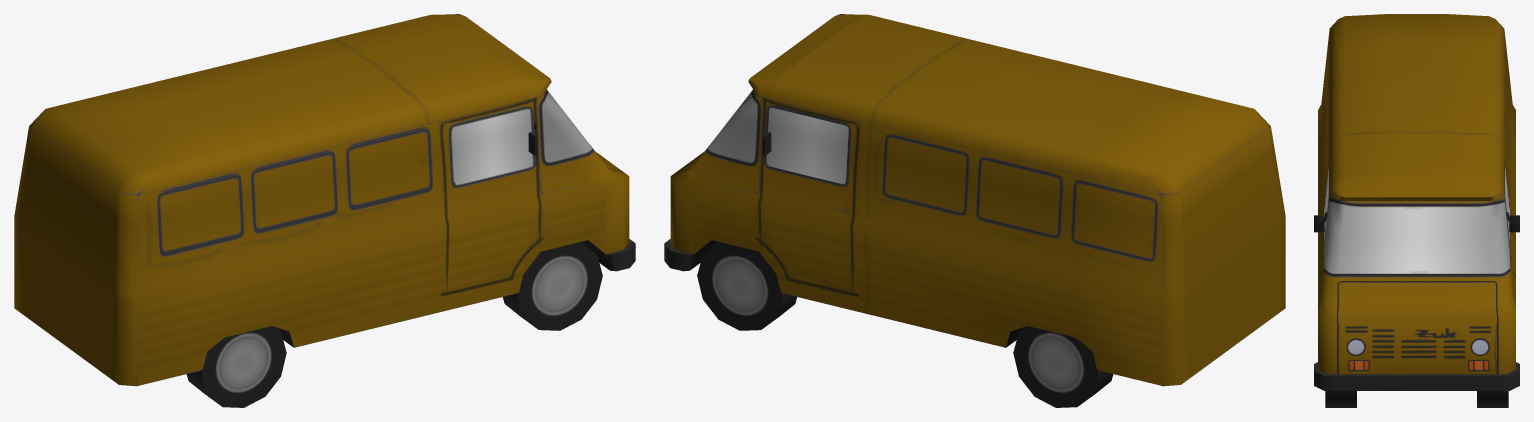
The model's file is zuk01-final.fbx.
3 views of the same model, side by side, from view 1: azimuth 30°, elevation 25°; view 2: azimuth 150°, elevation 25°; view 3: azimuth 270°, elevation 25° (orthographic). The views are drawn at different scales.
Visible parts, largest first — view 1: zuk; view 2: zuk; view 3: zuk.
Boxes of the visible parts, x1,y1,x2,y2 form: zuk: [14, 14, 635, 407]; zuk: [664, 14, 1285, 407]; zuk: [1314, 14, 1519, 407].
Size of the model in its own units: 434 by 206 by 176.
